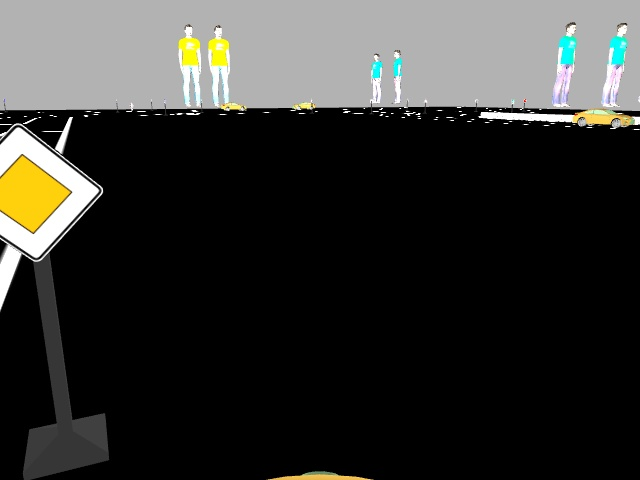Priority: (0, 125, 110, 257)
